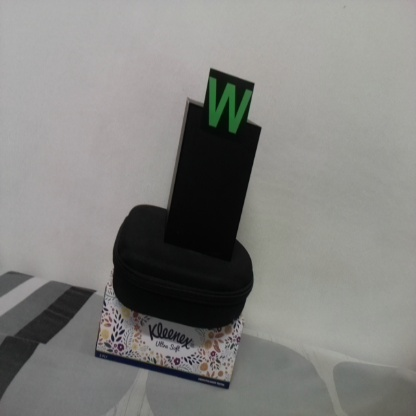id_12: (205, 73, 254, 149)
